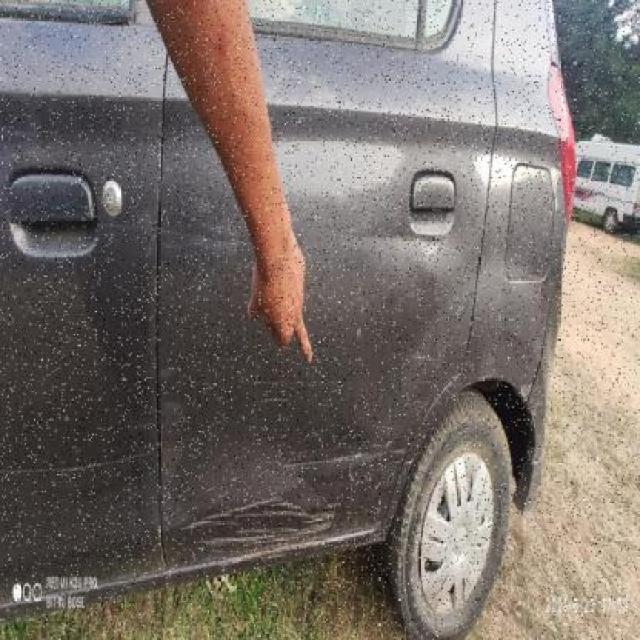doorouter-dent: (168, 29, 446, 545), (2, 20, 163, 579)
